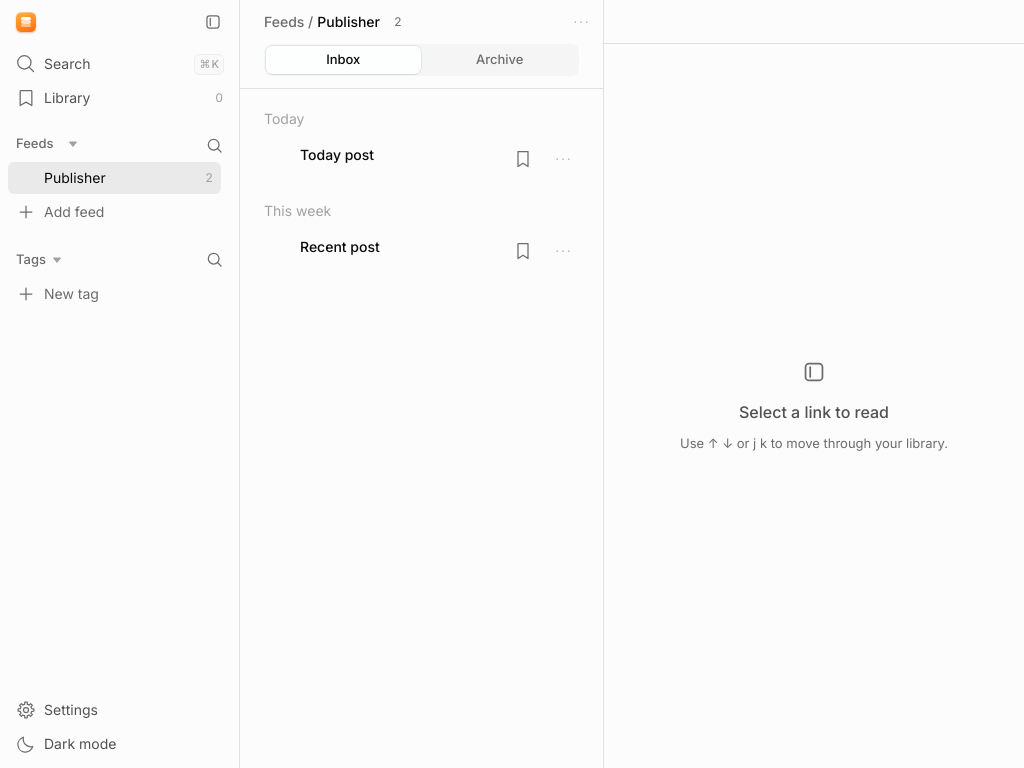
Test: copies the feed URL with success and failure feedback, then requests a refresh
Expected: the text "Today post" is shown, left=300, top=146, right=374, bottom=162
Click the button named "Feed actions": point(581, 22) left=565, top=6, right=597, bottom=38
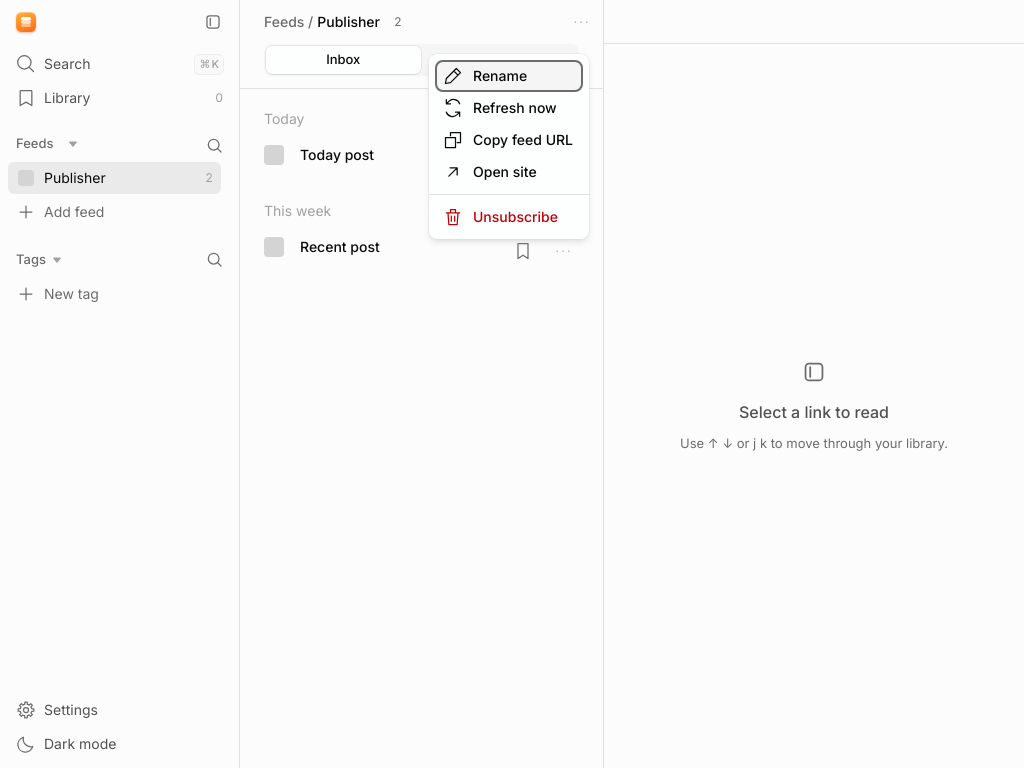
Click the menu item "Copy feed URL": point(509, 140) left=435, top=124, right=583, bottom=156
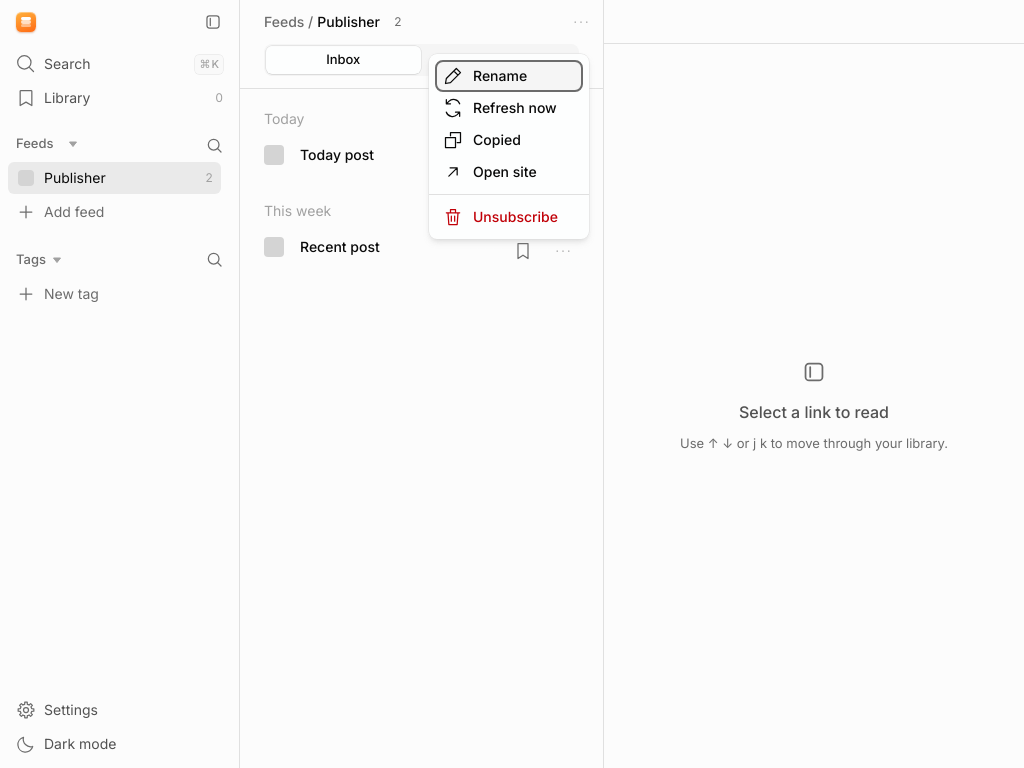
Now the menu item "Copied" is shown
Click the menu item "Copied": point(509, 140) left=435, top=124, right=583, bottom=156
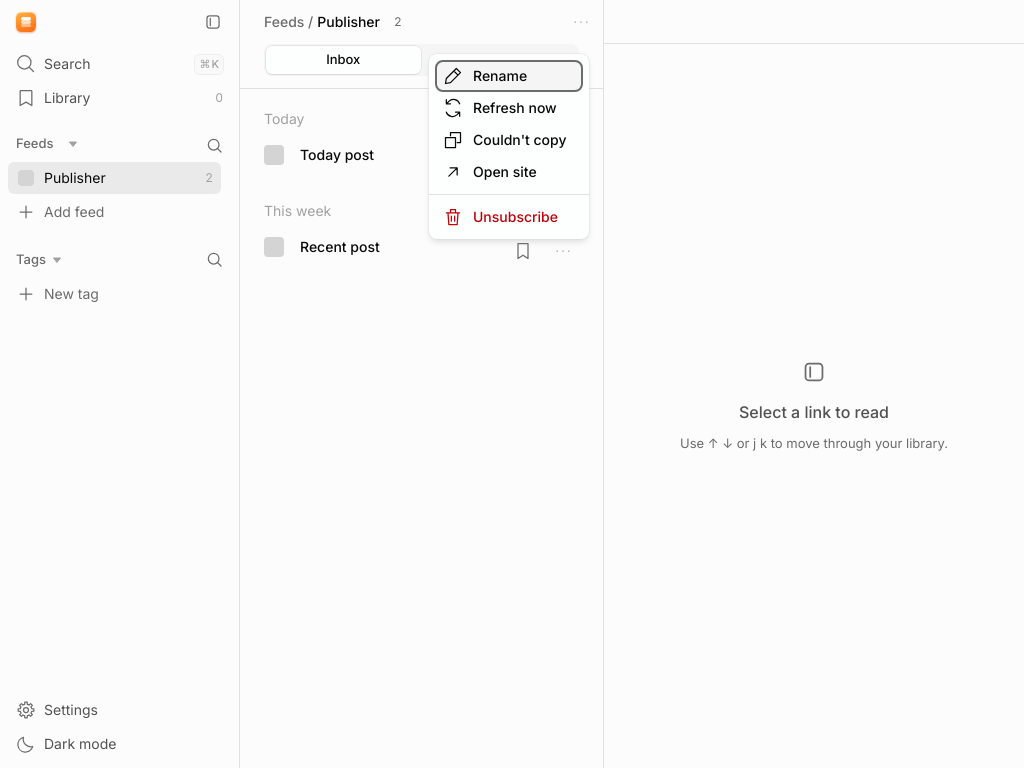
Now the menu item "Couldn't copy" is shown, box left=435, top=124, right=583, bottom=156
Click the menu item "Refresh now": point(509, 108) left=435, top=92, right=583, bottom=124
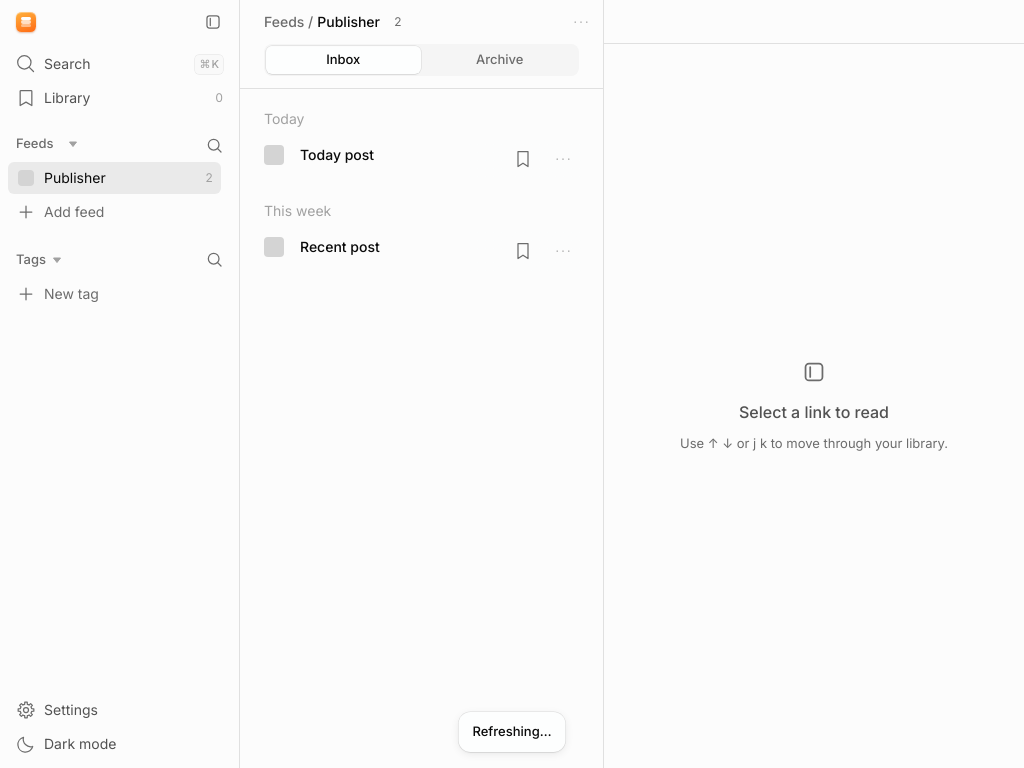
Now the text "Refreshing…" is shown, box left=458, top=712, right=566, bottom=752
